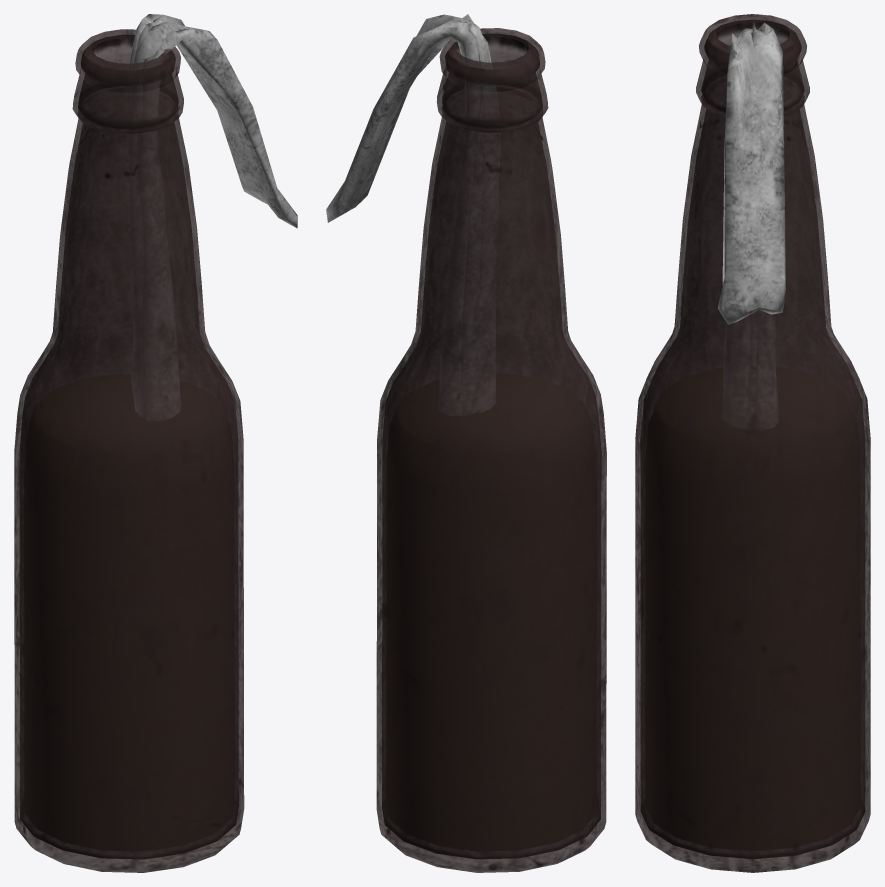
File: molotov.glb
3 views of the same model, side by side, from view 1: azimuth 30°, elevation 25°; view 2: azimuth 150°, elevation 25°; view 3: azimuth 270°, elevation 25° (orthographic).
Visible parts, largest first — view 1: Bottle, Liquid, Fabric; view 2: Bottle, Liquid, Fabric; view 3: Bottle, Liquid, Fabric.
Part boxes in pixels (bbox=[...]): Bottle: bbox=[14, 29, 244, 872]; Liquid: bbox=[24, 374, 234, 851]; Fabric: bbox=[127, 14, 297, 420]; Bottle: bbox=[376, 28, 606, 872]; Liquid: bbox=[386, 374, 596, 851]; Fabric: bbox=[326, 14, 499, 415]; Bottle: bbox=[635, 14, 870, 872]; Liquid: bbox=[645, 367, 860, 850]; Fabric: bbox=[717, 22, 785, 427].
Size of the model in its own units: 0.0702 by 0.2088 by 0.0545.
Materials: 3 (3 with a texture image).
